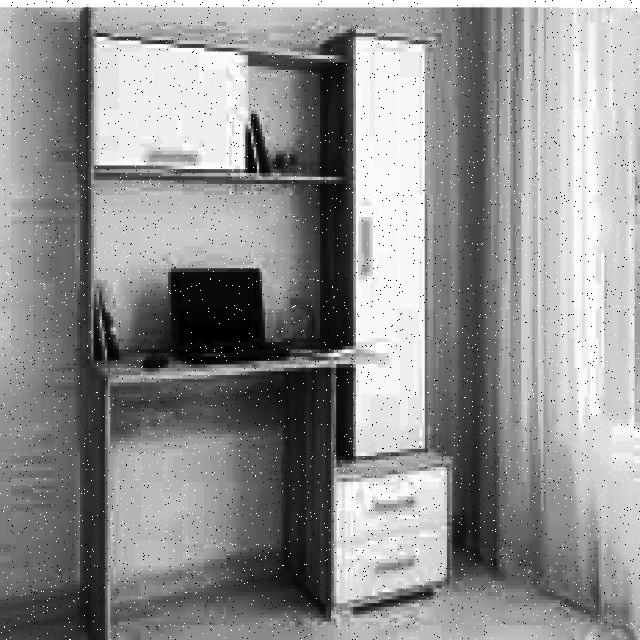table: (85, 338, 378, 640)
